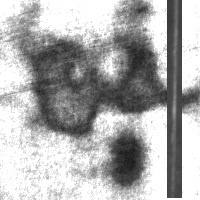patches: (105, 24, 191, 114), (27, 34, 98, 138), (104, 130, 144, 189)
scratches: (167, 0, 182, 198)
